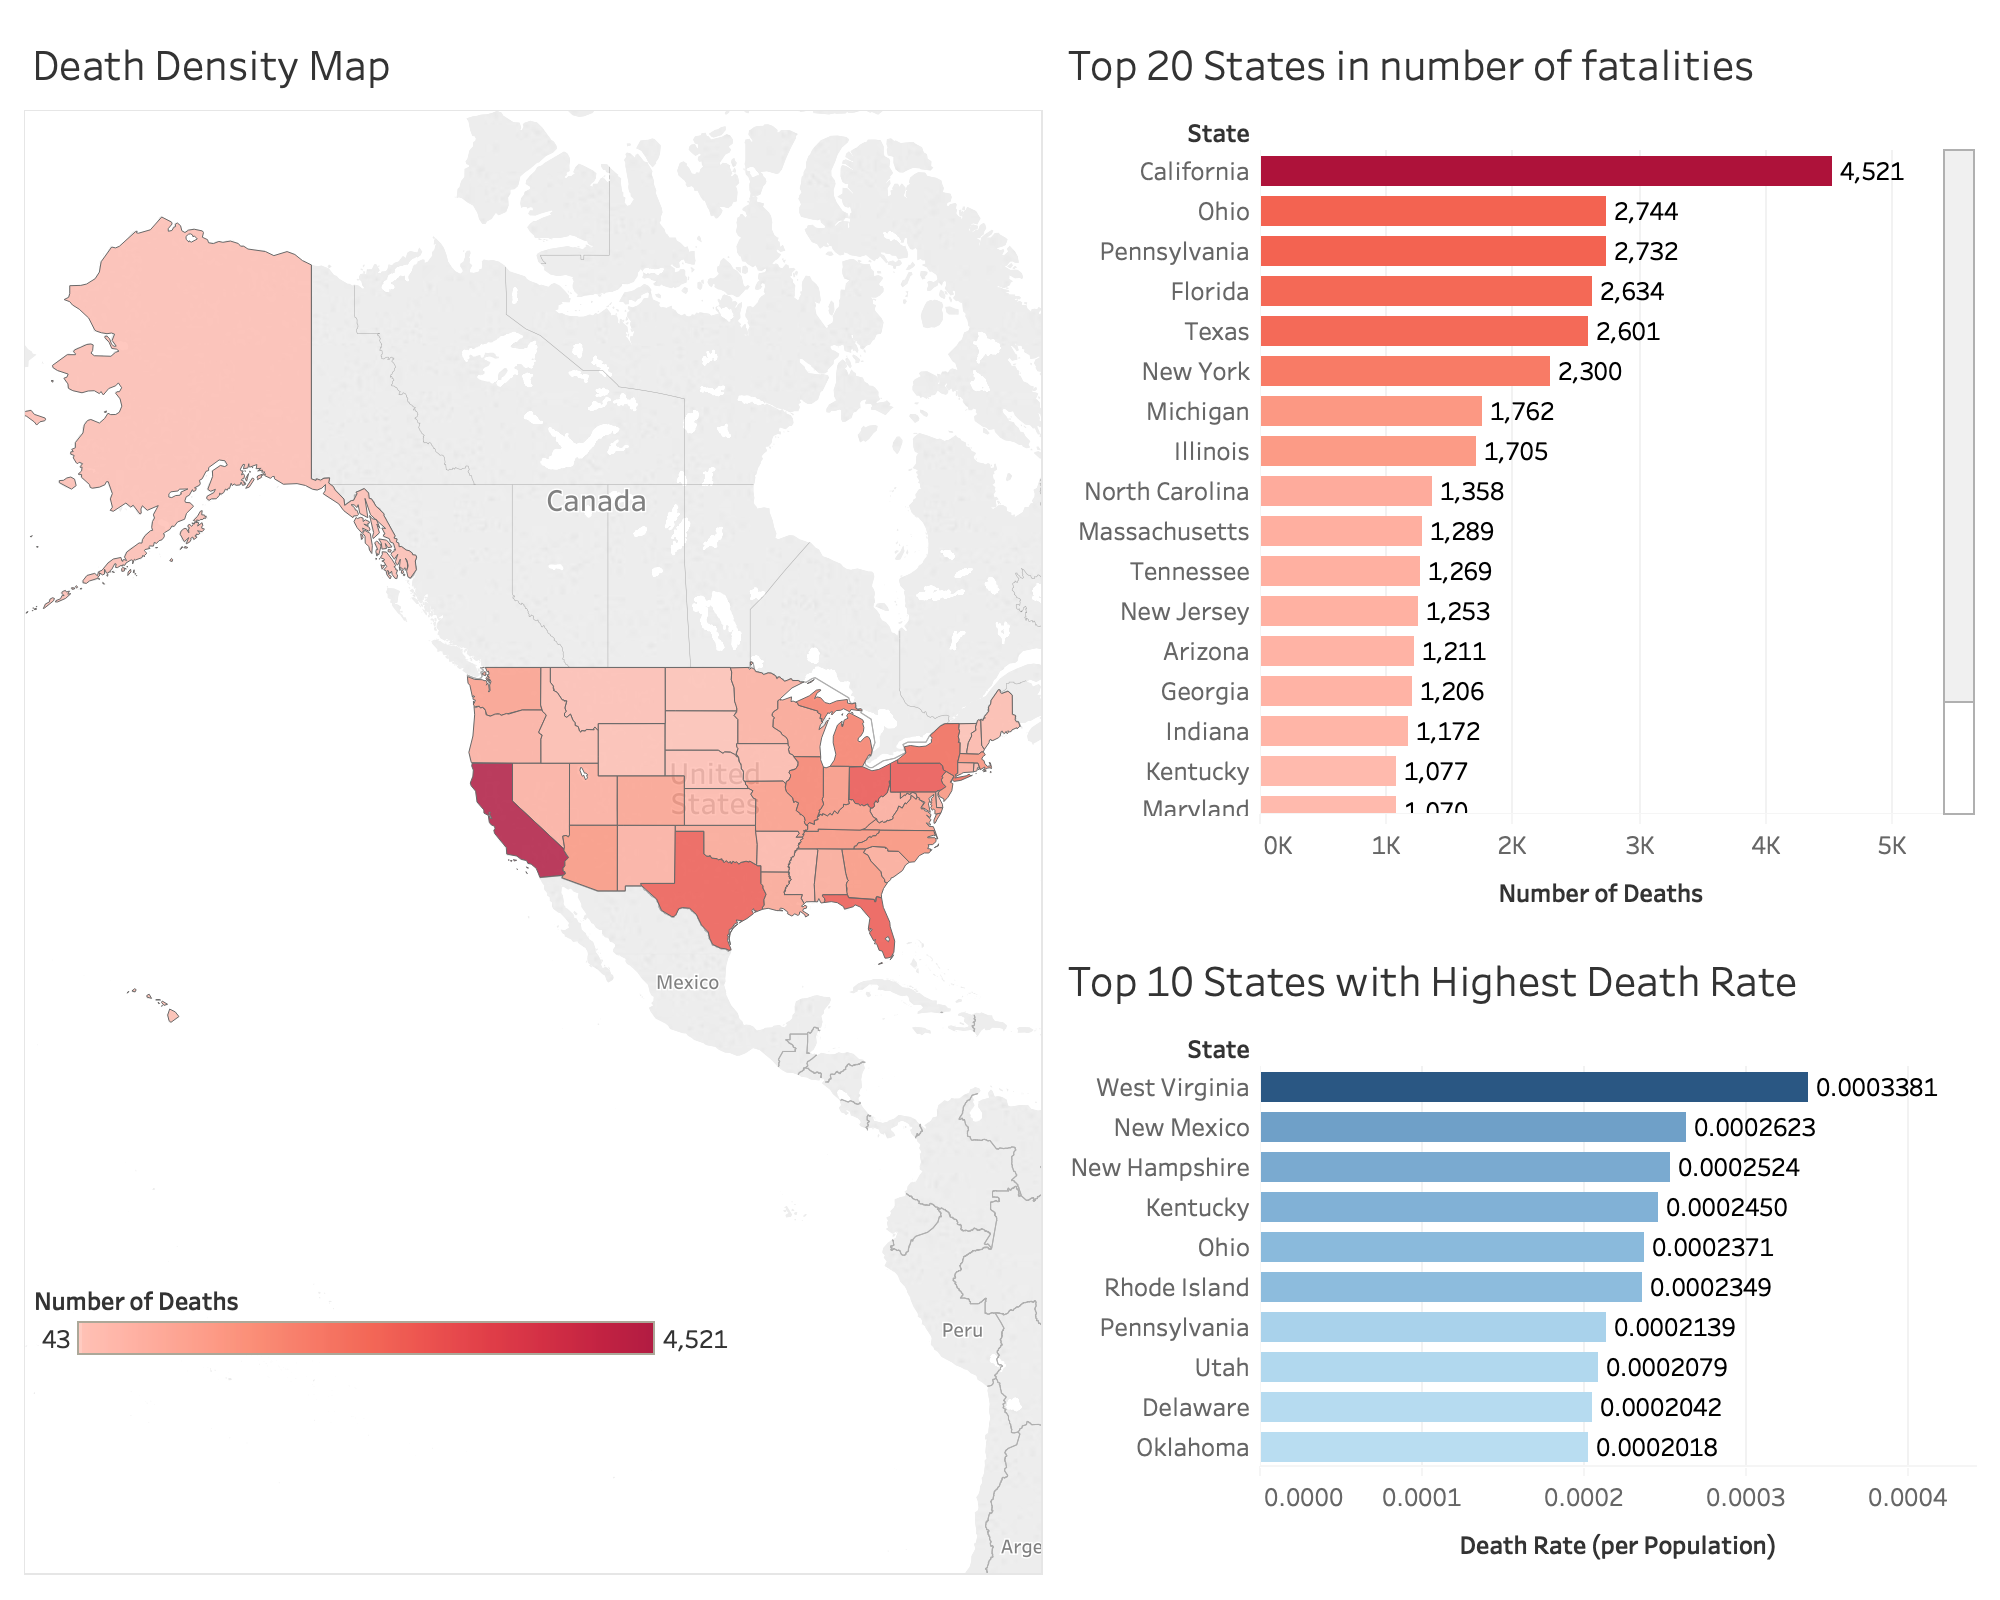

Layout of this report page (visuals, bound fields, positions):
{"tool":"tableau","page":{"name":"Number of Deaths by Opioid w.r.t US States11","canvas":[1000,800],"ordinal":1},"visuals":[{"type":"worksheet","title":"Deaths Stats Map","mark":"Automatic","box":[8,8,518,784]},{"type":"worksheet","title":"Deaths Stats Bar","mark":"Automatic","rows":["State"],"cols":["Deaths"],"box":[526,8,466,458]},{"type":"worksheet","title":"Death Ratio","mark":"Bar","rows":["State"],"cols":["Calculation_3178415503531978752"],"box":[526,466,466,326]},{"type":"legend","title":"Deaths Stats Map","param":"[federated.0sfi7ss15ciw9k1cnw2f20vlg7dc].[sum:Deaths:qk]","box":[13,634,360,81]}]}

Visuals, with their boxes in screenshot pixels (x1, y1, x2, y2), scaled from the page's 1000x800 canvas onto the 2000x1600 screenshot:
"Deaths Stats Map" worksheet: (16, 16, 1052, 1584)
"Deaths Stats Bar" worksheet: (1052, 16, 1984, 932)
"Death Ratio" worksheet (Bar marks): (1052, 932, 1984, 1584)
"Deaths Stats Map" legend: (26, 1268, 746, 1430)
